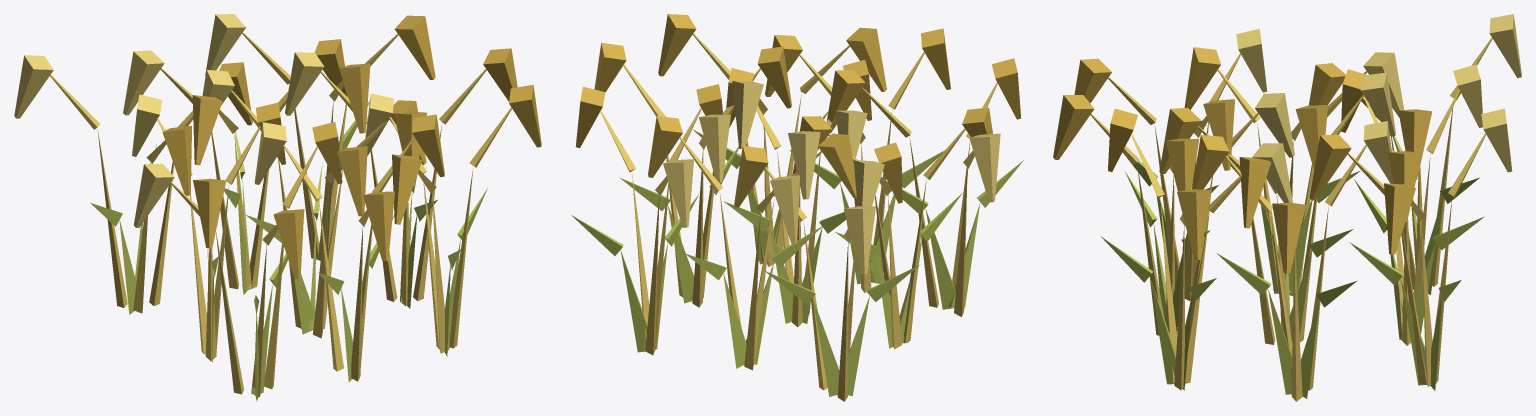
Rendered from rice-4.glb.
3 renders of one model, left to right at view 1: azimuth 30°, elevation 25°; view 2: azimuth 150°, elevation 25°; view 3: azimuth 270°, elevation 25°, orthographic. The views are drawn at different scales.
Parts seen in each view (by area): view 1: rice-4; view 2: rice-4; view 3: rice-4.
Part boxes in pixels (x1,y1,x2,y2): rice-4: [14, 14, 541, 401]; rice-4: [571, 14, 1023, 401]; rice-4: [1053, 14, 1521, 401].
Bounding box in the file's own units: 0.8761 × 0.5075 × 0.8775.
1 material, 1 textured.
